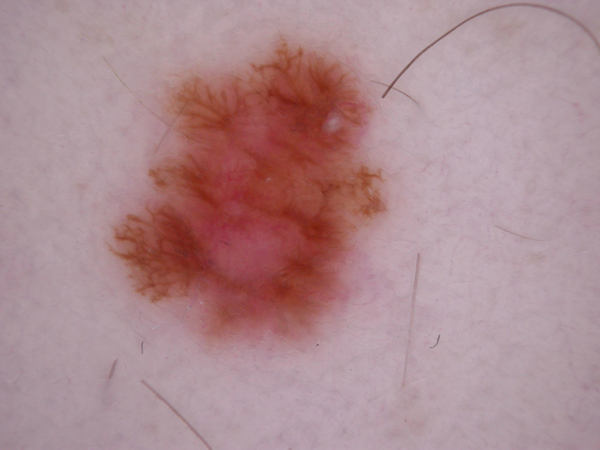Detected Lesion: (118, 35, 394, 344)
